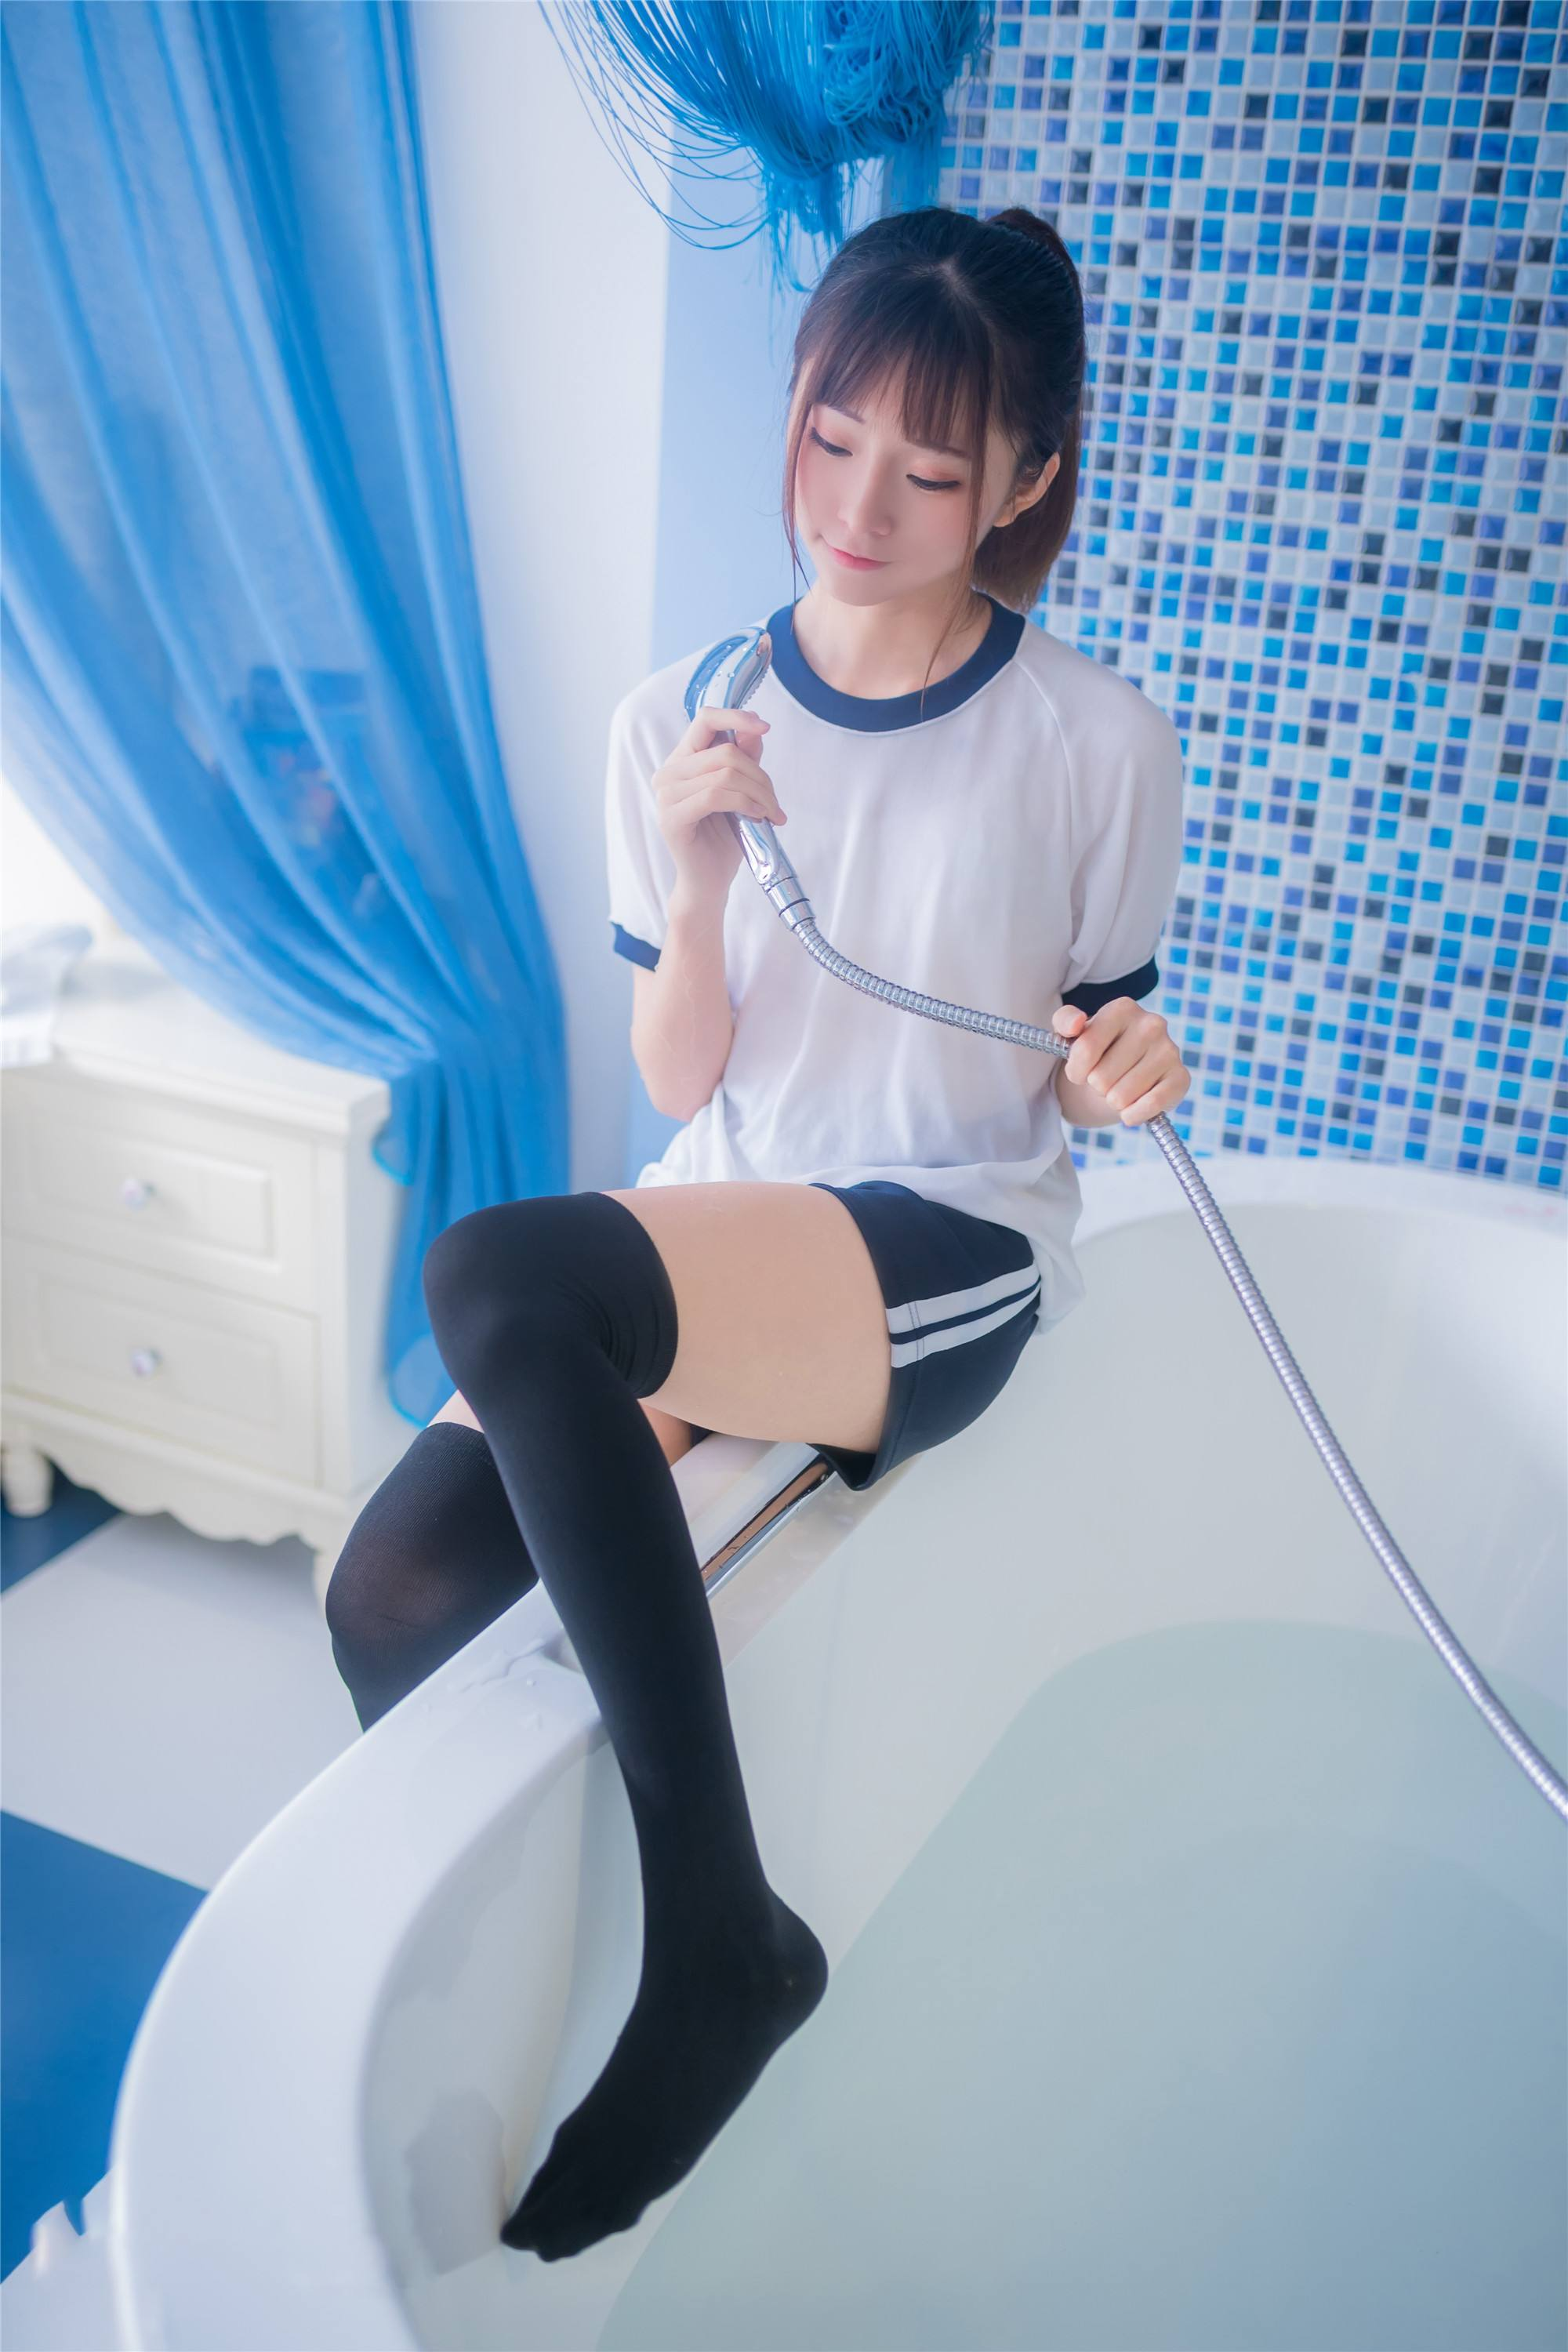person: (330, 239, 1268, 2023)
